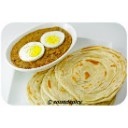parota: (63, 52, 122, 98)
